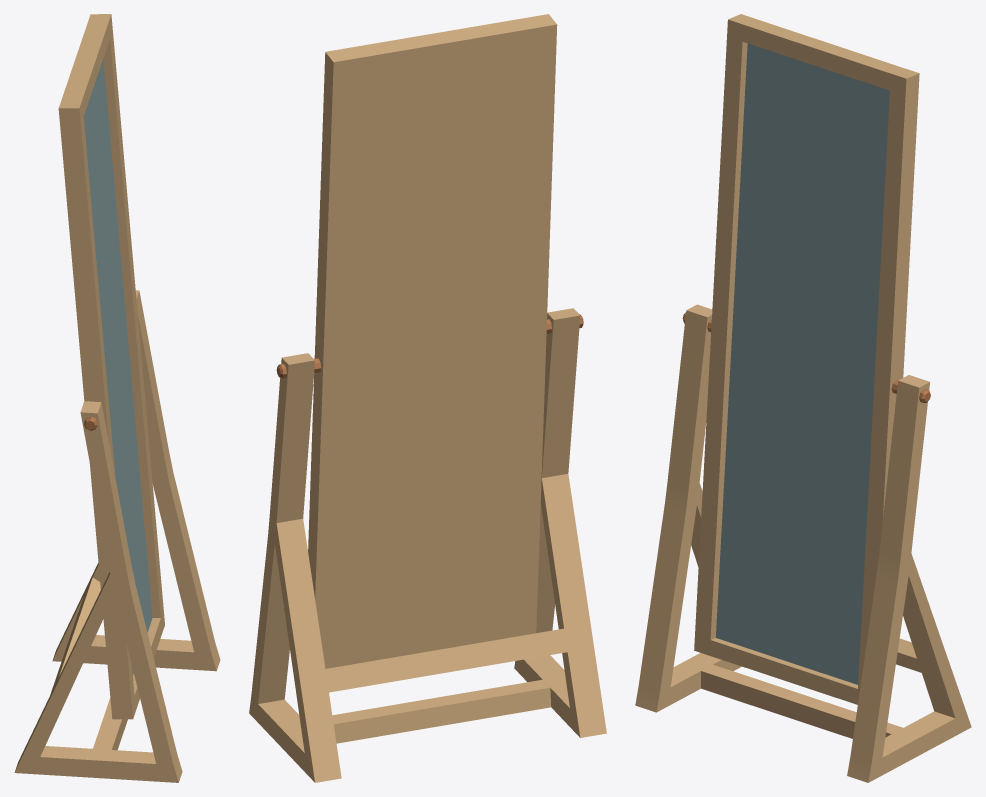
The model's file is Standing_Mirror.fbx.
3 views of the same model, side by side, from view 1: azimuth 30°, elevation 25°; view 2: azimuth 150°, elevation 25°; view 3: azimuth 270°, elevation 25° (orthographic). The views are drawn at different scales.
Visible parts, largest first — view 1: Mirror_Frame, Mirror_Plane; view 2: Mirror_Frame; view 3: Mirror_Plane, Mirror_Frame.
Boxes of the visible parts, left/top/right/bottom form: Mirror_Frame: left=14, top=14, right=220, bottom=782; Mirror_Plane: left=83, top=59, right=152, bottom=675; Mirror_Frame: left=249, top=14, right=606, bottom=782; Mirror_Plane: left=716, top=43, right=889, bottom=684; Mirror_Frame: left=635, top=14, right=971, bottom=782.
Bounding box in the file's own units: 2.79 × 6.46 × 2.98.
2 materials, 1 textured.
